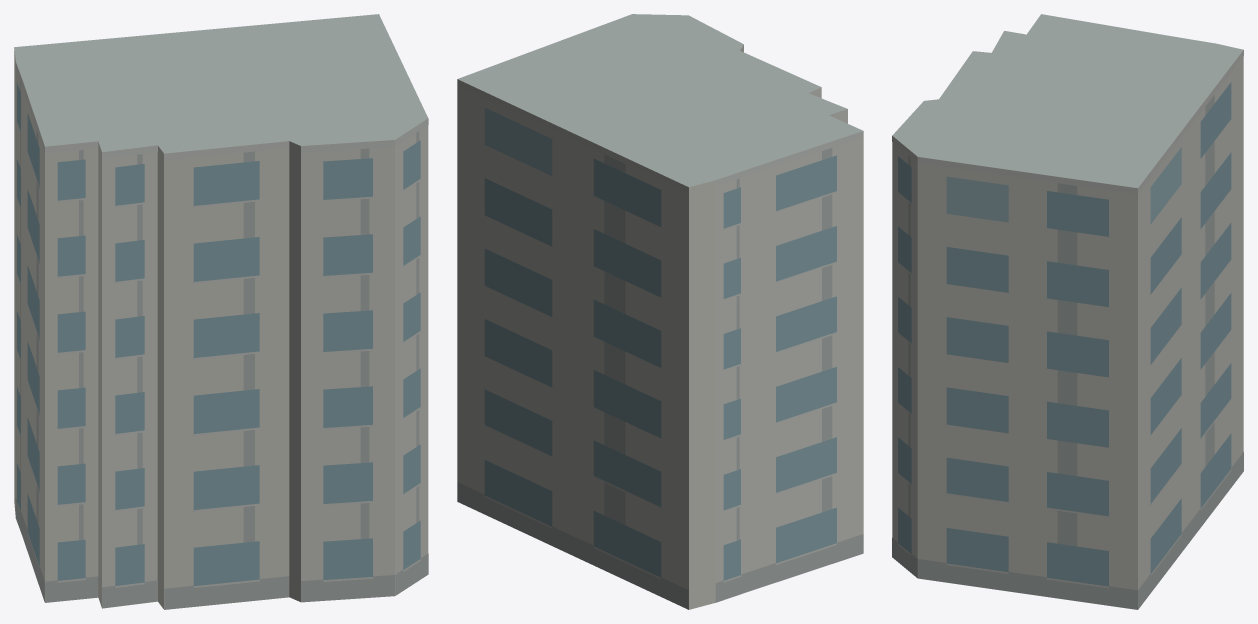
File: survey-upis-32828195.glb
3 renders of one model, left to right at view 1: azimuth 30°, elevation 25°; view 2: azimuth 150°, elevation 25°; view 3: azimuth 270°, elevation 25°, orthographic. The views are drawn at different scales.
Parts seen in each view (by area): view 1: survey-upis-32828195.tmp; view 2: survey-upis-32828195.tmp; view 3: survey-upis-32828195.tmp.
Part boxes in pixels (x1=…): survey-upis-32828195.tmp: x1=14, y1=14, x2=428, y2=609; survey-upis-32828195.tmp: x1=457, y1=14, x2=863, y2=609; survey-upis-32828195.tmp: x1=892, y1=14, x2=1243, y2=609.
Bounding box in the file's own units: 14.1 × 15.9 × 12.02.
